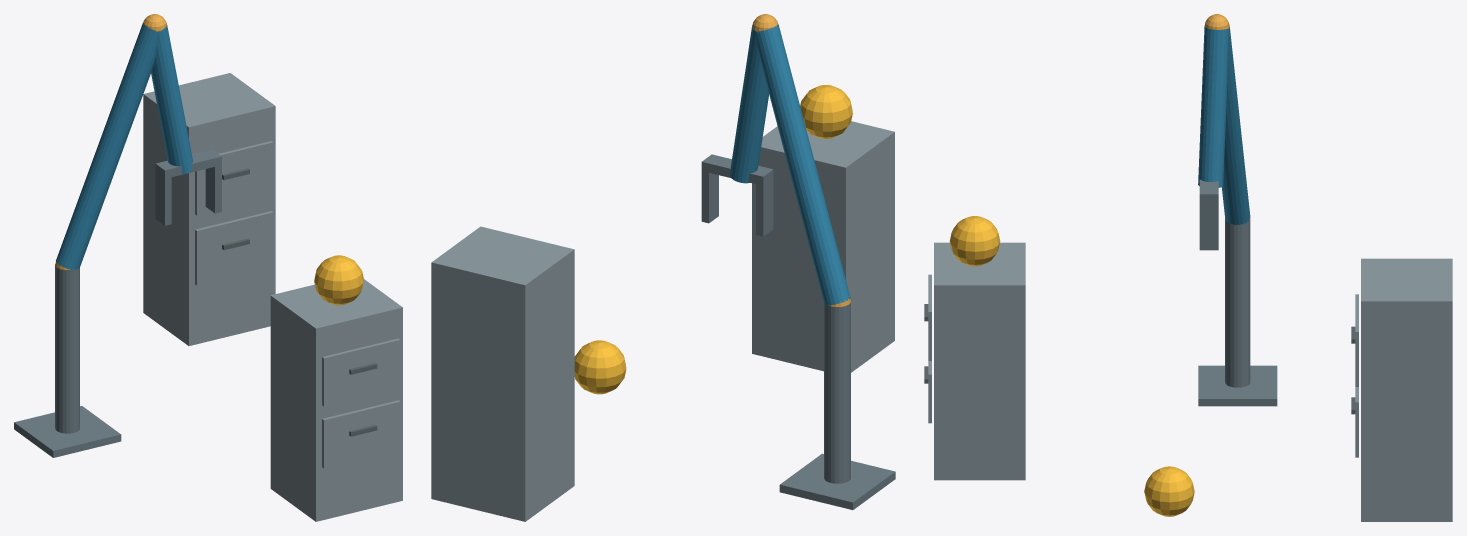
The picture shows the model from 3 angles, left to right: view 1: azimuth 30°, elevation 25°; view 2: azimuth 150°, elevation 25°; view 3: azimuth 270°, elevation 25°; orthographic projection. The views are drawn at different scales.
Visible parts, largest first — view 1: cabinet_2 body, cabinet_1 body, moving link 1, cabinet_2 drawer front, fixed post, cabinet_1 drawer front, cabinet_1 drawer front.001, cabinet_2 drawer front.001, moving link 2, pedestal, released ball_1, gripper bridge (+2 smaller); view 2: cabinet_2 body, cabinet_1 body, moving link 1, fixed post, moving link 2, pedestal, ball ball_2, released ball_1, gripper finger -1, gripper bridge, gripper finger 1; view 3: cabinet_2 body, cabinet_1 body, fixed post, moving link 2, moving link 1, pedestal, ball ball_2, released ball_1, gripper finger 1.
Part boxes in pixels (bbox=[...]): cabinet_2 body: bbox=[143, 73, 275, 345]; cabinet_1 body: bbox=[270, 279, 402, 521]; moving link 1: bbox=[56, 22, 158, 270]; cabinet_2 drawer front: bbox=[195, 211, 273, 285]; fixed post: bbox=[55, 264, 79, 433]; cabinet_1 drawer front: bbox=[322, 400, 400, 468]; cabinet_1 drawer front.001: bbox=[322, 338, 400, 406]; cabinet_2 drawer front.001: bbox=[195, 141, 273, 215]; moving link 2: bbox=[151, 24, 192, 174]; pedestal: bbox=[14, 406, 121, 457]; released ball_1: bbox=[314, 255, 363, 305]; gripper bridge: bbox=[155, 149, 221, 178]; cabinet_2 body: bbox=[431, 226, 574, 521]; cabinet_1 body: bbox=[752, 121, 894, 372]; moving link 1: bbox=[756, 24, 850, 305]; fixed post: bbox=[824, 302, 850, 483]; moving link 2: bbox=[730, 25, 768, 183]; pedestal: bbox=[779, 453, 895, 509]; ball ball_2: bbox=[574, 340, 626, 394]; released ball_1: bbox=[800, 84, 852, 138]; gripper finger -1: bbox=[756, 179, 773, 236]; gripper bridge: bbox=[701, 154, 773, 185]; gripper finger 1: bbox=[701, 171, 718, 223]; cabinet_2 body: bbox=[1361, 258, 1452, 521]; cabinet_1 body: bbox=[934, 242, 1025, 480]; fixed post: bbox=[1225, 218, 1250, 387]; moving link 2: bbox=[1198, 27, 1229, 187]; moving link 1: bbox=[1221, 26, 1250, 224]; pedestal: bbox=[1198, 365, 1277, 406]; ball ball_2: bbox=[1144, 466, 1194, 516]; released ball_1: bbox=[949, 216, 1000, 266]; gripper finger 1: bbox=[1199, 203, 1218, 250].
Size of the model in its own units: 1.14 by 1.44 by 1.67.
